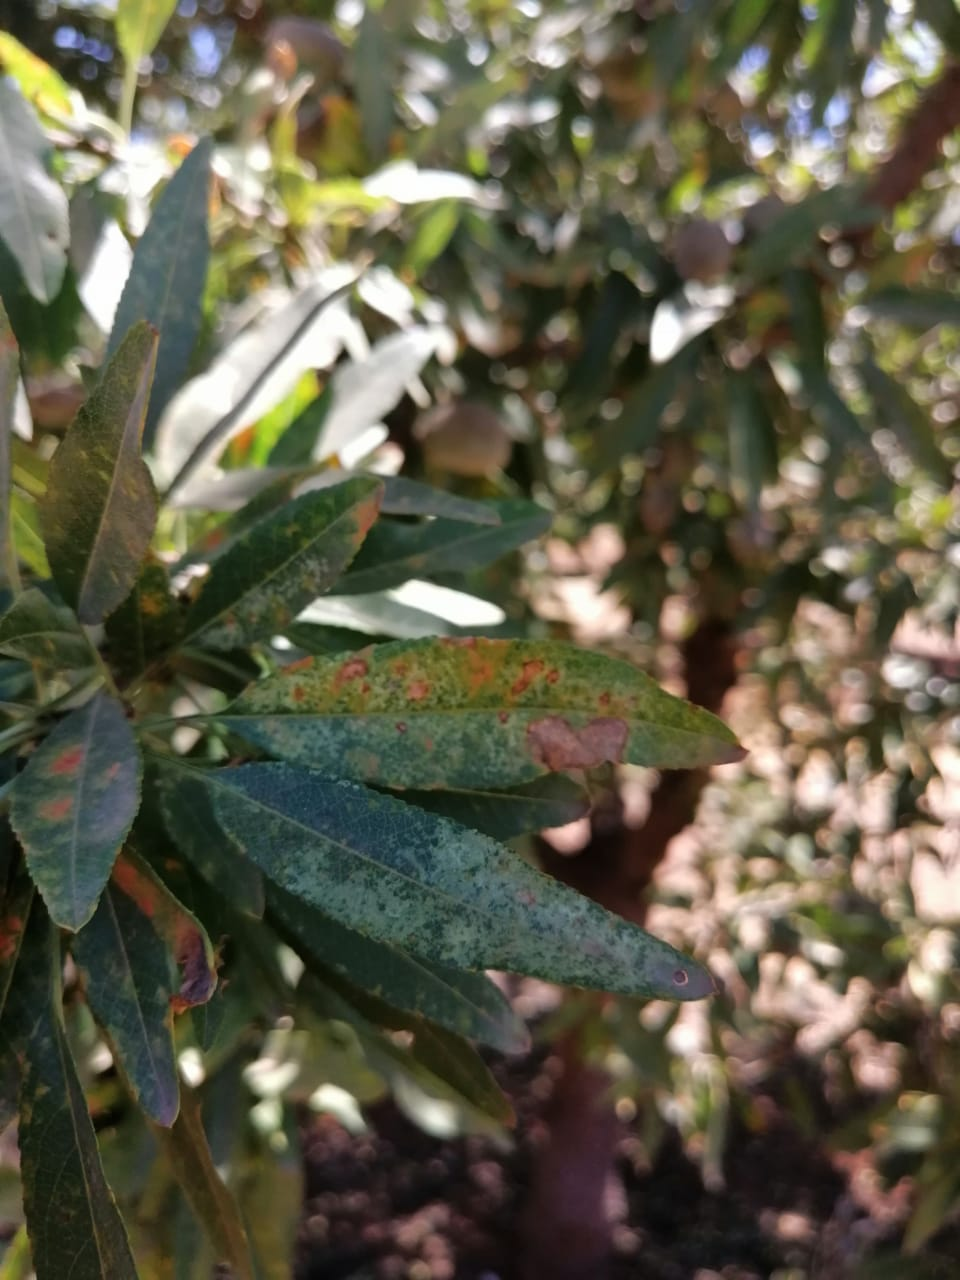faux tigre: (207, 761, 721, 1006), (215, 631, 749, 794), (155, 472, 384, 657)
